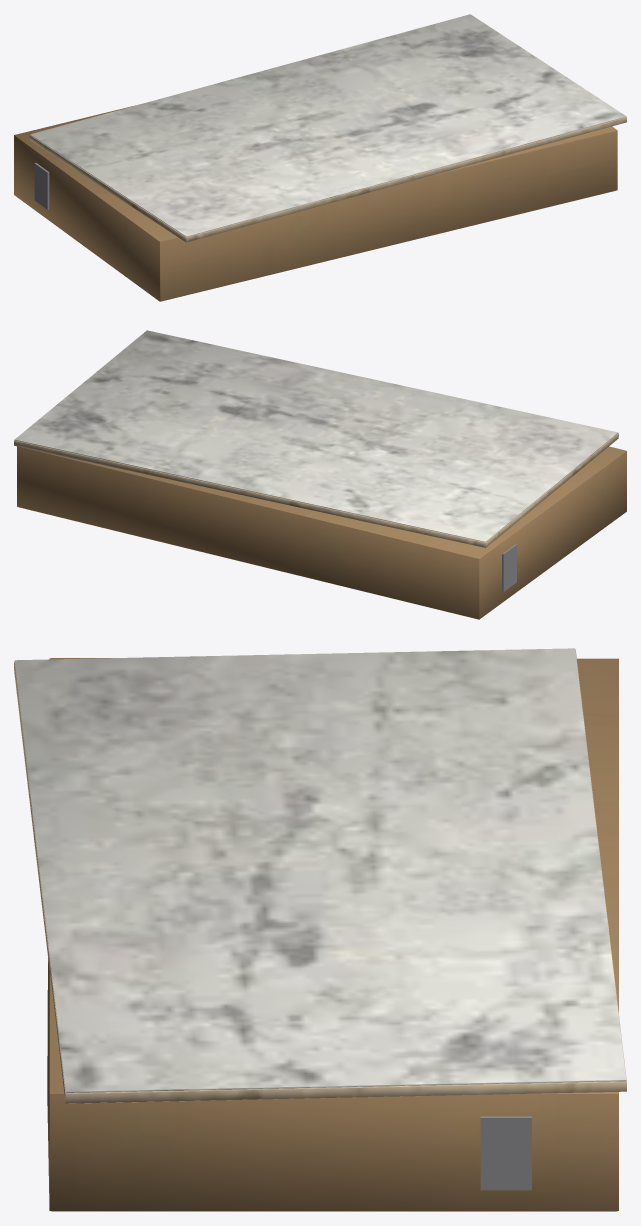
The model's file is REV-CER-003_lod1.glb.
3 views of the same model, one above another, from view 1: azimuth 30°, elevation 25°; view 2: azimuth 150°, elevation 25°; view 3: azimuth 270°, elevation 25° (orthographic). The views are drawn at different scales.
Parts seen in each view (by area): view 1: REV-CER-003_face, REV-CER-003_caixa, REV-CER-003_corpo, REV-CER-003_faixa; view 2: REV-CER-003_face, REV-CER-003_caixa, REV-CER-003_corpo, REV-CER-003_faixa; view 3: REV-CER-003_face, REV-CER-003_caixa, REV-CER-003_corpo, REV-CER-003_faixa.
Part boxes in pixels (x1,y1,x2,y2): REV-CER-003_face: [30, 14, 626, 236]; REV-CER-003_caixa: [14, 105, 617, 301]; REV-CER-003_corpo: [29, 117, 626, 242]; REV-CER-003_faixa: [34, 163, 49, 209]; REV-CER-003_face: [14, 330, 618, 542]; REV-CER-003_caixa: [17, 446, 626, 619]; REV-CER-003_corpo: [14, 433, 618, 547]; REV-CER-003_faixa: [502, 544, 516, 591]; REV-CER-003_face: [14, 648, 626, 1092]; REV-CER-003_caixa: [47, 658, 618, 1211]; REV-CER-003_corpo: [14, 650, 626, 1103]; REV-CER-003_faixa: [480, 1116, 531, 1190].
Bounding box in the file's own units: 0.6235 × 0.0864 × 0.359.
6 materials, 4 textured.
